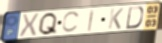C: (61, 10, 82, 34)
D: (124, 6, 144, 31)
I: (87, 9, 96, 33)
K: (107, 7, 125, 30)
Q: (37, 12, 59, 37)
X: (18, 13, 40, 39)
